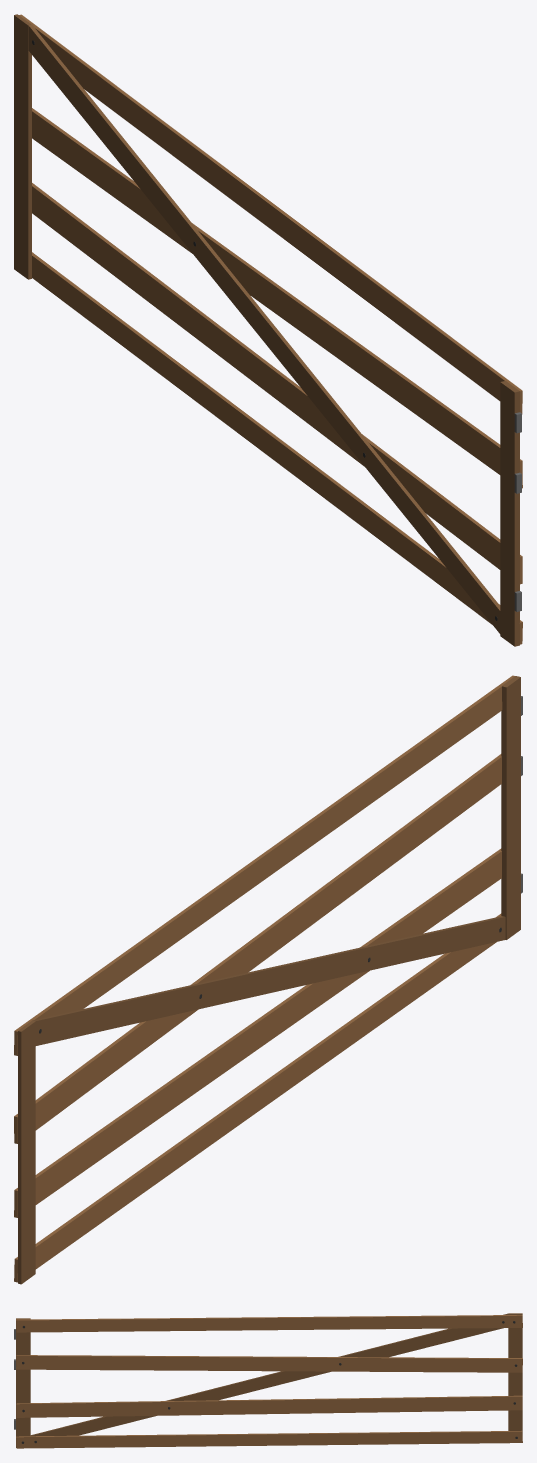
Rendered from fencegatel.glb.
3 views of the same model, one above another, from view 1: azimuth 30°, elevation 25°; view 2: azimuth 150°, elevation 25°; view 3: azimuth 270°, elevation 25° (orthographic). The views are drawn at different scales.
Visible parts, largest first — view 1: Cube.003; view 2: Cube.003; view 3: Cube.003.
Part boxes in pixels (x1,y1,x2,y2): Cube.003: (14,14,522,646); Cube.003: (14,675,522,1284); Cube.003: (14,1313,522,1448).
Size of what is drawn, in the model's own units: 0.0544 by 1.42 by 4.92.
